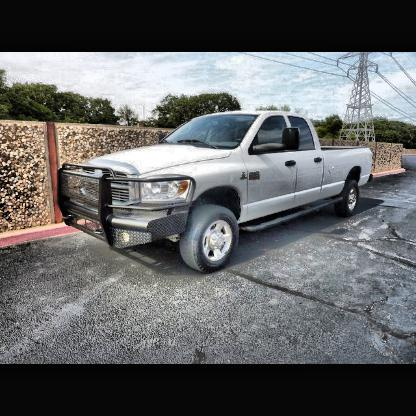Dodge Ram Pickup 3500 Quad Cab 2009: (54, 110, 379, 279)
